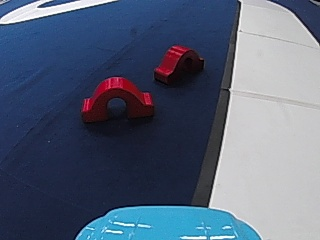bridge: (78, 72, 155, 122), (152, 41, 204, 86)
